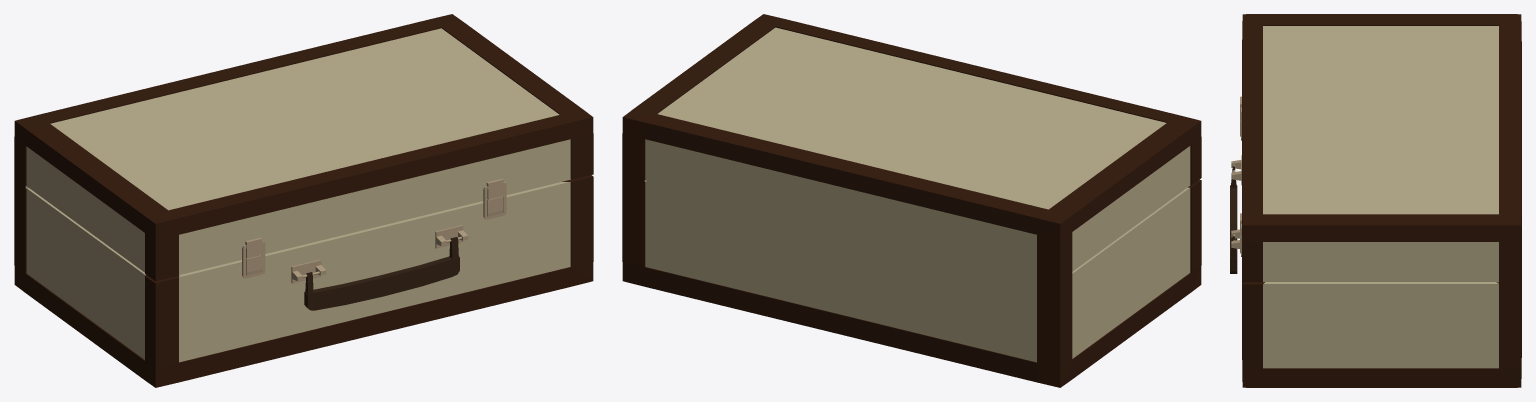
The model's file is luggage 2.fbx.
The picture shows the model from 3 angles, left to right: view 1: azimuth 30°, elevation 25°; view 2: azimuth 150°, elevation 25°; view 3: azimuth 270°, elevation 25°; orthographic projection.
Parts seen in each view (by area): view 1: luggage3; view 2: luggage3; view 3: luggage3.
Part boxes in pixels (left/top/right/bottom): luggage3: left=14, top=14, right=593, bottom=387; luggage3: left=622, top=14, right=1201, bottom=387; luggage3: left=1230, top=14, right=1521, bottom=387.
Size of the model in its own units: 0.8604 by 0.3091 by 0.5009.
